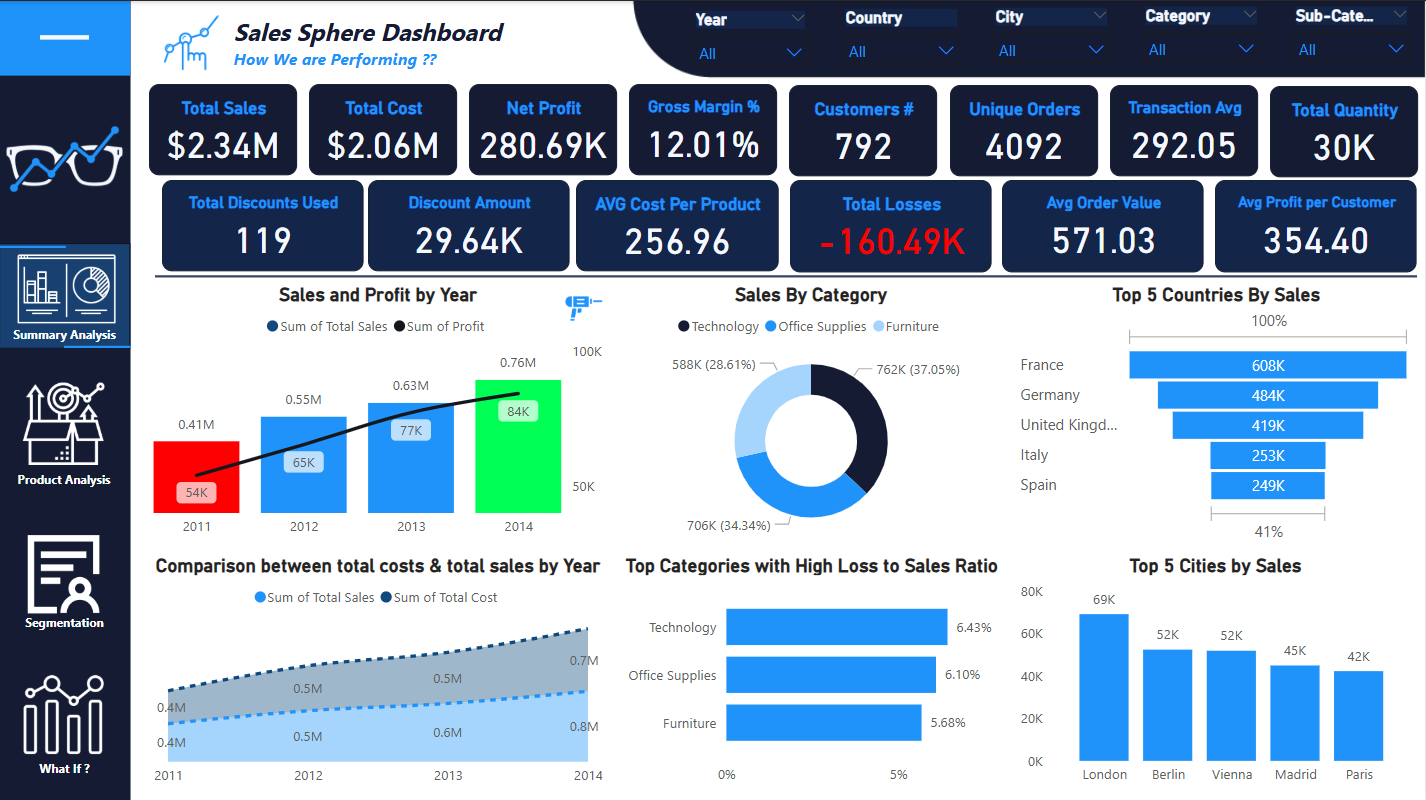

Layout of this report page (visuals, bound fields, positions):
{"tool":"powerbi","page":{"name":"Summary Analysis","canvas":[1280,720],"ordinal":0},"visuals":[{"type":"shape","box":[0,217,118,95],"z":0},{"type":"textbox","box":[205.7,8,309.1,61.4],"z":1000},{"type":"card","title":"Total Sales","fields":{"Values":["_Key Measures.01. Total Sales"]},"box":[134.5,74.9,132.9,81.7],"z":2000},{"type":"card","title":"Total Cost","fields":{"Values":["_Key Measures.02. Total Cost"]},"box":[278.3,74.6,132.9,81.7],"z":3000},{"type":"card","title":"Net Profit","fields":{"Values":["_Key Measures.03. Net Profit"]},"box":[422.1,74.4,132.9,81.7],"z":4000},{"type":"card","title":"Gross Margin %","fields":{"Values":["_Key Measures.04.Gross margin (%)"]},"box":[565.9,74.1,132.9,81.7],"z":5000},{"type":"card","title":"Customers #","fields":{"Values":["_Key Measures.05. Customers#"]},"box":[709.6,75.5,132.9,81.7],"z":6000},{"type":"card","title":"Unique Orders","fields":{"Values":["_Key Measures.06. Unique Orders"]},"box":[853.4,75.7,132.9,81.7],"z":7000},{"type":"card","title":"Transaction Avg","fields":{"Values":["_Key Measures.07. Transictions Avg"]},"box":[997.2,75.2,132.9,81.7],"z":8000},{"type":"card","title":"Total Quantity","fields":{"Values":["_Key Measures.08. Total Quantites"]},"box":[1141,76,132.9,81.7],"z":9000},{"type":"card","title":"AVG Cost Per Product","fields":{"Values":["_Key Measures.AVG Cost Per Product"]},"box":[517.7,160.7,181.7,82.2],"z":10000},{"type":"card","title":"Total Discounts Used","fields":{"Values":["_Key Measures.Total Discounts Used"]},"box":[146.1,160.7,180.8,82.2],"z":11000},{"type":"card","title":"Discount Amount","fields":{"Values":["_Key Measures.Discount Amount"]},"box":[331.4,160.7,180.8,82.2],"z":12000},{"type":"card","title":"Total Losses","fields":{"Values":["_Key Measures.Total Losses"]},"box":[709.9,160.6,181.3,82.6],"z":13000},{"type":"card","title":"Avg Order Value","fields":{"Values":["_Key Measures.Avg Order Value"]},"box":[900.6,160.6,181.3,82.6],"z":14000},{"type":"card","title":"Avg Profit per Customer","fields":{"Values":["_Key Measures.Avg Profit per Customer"]},"box":[1091.3,160.6,181.3,82.6],"z":15000},{"type":"shape","box":[140,240,1133,15],"z":16000},{"type":"lineStackedColumnComboChart","title":"Sales and Profit by Year","fields":{"Category":["Dim - Calendar._Dim Calendar Hierarchy.Year","Dim - Calendar._Dim Calendar Hierarchy.Quarter","Dim - Calendar._Dim Calendar Hierarchy.Month No.","Dim - Calendar._Dim Calendar Hierarchy.Month Name","Dim - Calendar._Dim Calendar Hierarchy.Week No. Monthly"],"Y":["Sum(Fact - Sales.Total Sales)"],"Y2":["Sum(Fact - Sales.Profit)"]},"box":[134.1,253.3,412.9,236.5],"z":17000},{"type":"donutChart","title":"Sales By Category","fields":{"Y":["Sum(Fact - Sales.Total Cost)"],"Category":["Dim - Category.Category"]},"box":[552.9,253.6,352.1,236.4],"z":18000},{"type":"funnel","title":"Top 5 Countries By Sales","fields":{"Y":["Sum(Fact - Sales.Total Sales)"],"Category":["Dim - Country.Country"]},"box":[912.1,253.6,361.4,236.4],"z":19000},{"type":"clusteredBarChart","title":"Top Categories with High Loss to Sales Ratio","fields":{"Category":["Dim - Category.Category"],"Y":["_Key Measures.Loss to Sales Ratio"]},"box":[552.9,496.4,353.6,215.7],"z":20000},{"type":"clusteredColumnChart","title":"Top 5 Cities by Sales","fields":{"Y":["Sum(Fact - Sales.Total Sales)"],"Category":["Dim - City.City"]},"box":[912.1,496.4,360,215.7],"z":21000},{"type":"image","box":[139.8,8,65.9,59.1],"z":22000},{"type":"image","box":[11.4,206.8,97.7,104.5],"z":23000},{"type":"image","box":[8,337.5,100,84.1],"z":24000},{"type":"image","box":[9.1,468.2,97.7,92],"z":25000},{"type":"image","box":[17,590.9,81.8,100],"z":26000},{"type":"shape","box":[58,272,60,77],"z":27000},{"type":"shape","box":[0,182,60,77],"z":28000},{"type":"textbox","box":[0,284.5,117.5,26.8],"z":29000},{"type":"textbox","box":[0,414.4,116.5,32],"z":30000},{"type":"textbox","box":[0,674.2,117.5,32],"z":31000},{"type":"textbox","box":[0,543.3,117.5,32],"z":32000},{"type":"shape","box":[0,0,118,67],"z":33000},{"type":"shape","box":[37.1,12.4,44.3,40.2],"z":34000},{"type":"image","box":[0,67,117.5,149.5],"z":35000},{"type":"stackedAreaChart","title":"Comparison between total costs & total sales by Year","fields":{"Category":["Dim - Calendar._Dim Calendar Hierarchy.Year","Dim - Calendar._Dim Calendar Hierarchy.Quarter","Dim - Calendar._Dim Calendar Hierarchy.Month No.","Dim - Calendar._Dim Calendar Hierarchy.Month Name","Dim - Calendar._Dim Calendar Hierarchy.Week No. Monthly"],"Y":["Sum(Fact - Sales.Total Sales)","Sum(Fact - Sales.Total Cost)"]},"box":[134.1,496.5,412.9,216.5],"z":36000},{"type":"slicer","fields":{"Values":["Dim - Sub-Category.Sub-Category"]},"box":[1149.5,-1.4,129.9,60.8],"z":37000},{"type":"slicer","fields":{"Values":["Dim - Category.Category"]},"box":[1014.7,-1.4,129.9,60.8],"z":38000},{"type":"slicer","fields":{"Values":["Dim - City.City"]},"box":[879.9,-1,129.9,60.8],"z":39000},{"type":"slicer","fields":{"Values":["Dim - Country.Country"]},"box":[745.1,0,129.9,60.8],"z":40000},{"type":"slicer","fields":{"Values":["Dim - Calendar.Year"]},"box":[609.3,1.1,129.9,60.8],"z":41000},{"type":"image","box":[498.8,254.1,51.8,43.5],"z":42000}]}

Visuals, with their boxes on the page's 1280x720 design canvas (x1, y1, x2, y2). These are canvas units, not pixel positions in the 1426x800 screenshot, which may show the page scaled, cropped or inside an application window:
shape: 0 217 118 312
textbox: 206 8 515 69
"Total Sales" card: 134 75 267 157
"Total Cost" card: 278 75 411 156
"Net Profit" card: 422 74 555 156
"Gross Margin %" card: 566 74 699 156
"Customers #" card: 710 76 842 157
"Unique Orders" card: 853 76 986 157
"Transaction Avg" card: 997 75 1130 157
"Total Quantity" card: 1141 76 1274 158
"AVG Cost Per Product" card: 518 161 699 243
"Total Discounts Used" card: 146 161 327 243
"Discount Amount" card: 331 161 512 243
"Total Losses" card: 710 161 891 243
"Avg Order Value" card: 901 161 1082 243
"Avg Profit per Customer" card: 1091 161 1273 243
shape: 140 240 1273 255
"Sales and Profit by Year" lineStackedColumnComboChart: 134 253 547 490
"Sales By Category" donutChart: 553 254 905 490
"Top 5 Countries By Sales" funnel: 912 254 1274 490
"Top Categories with High Loss to Sales Ratio" clusteredBarChart: 553 496 906 712
"Top 5 Cities by Sales" clusteredColumnChart: 912 496 1272 712
image: 140 8 206 67
image: 11 207 109 311
image: 8 338 108 422
image: 9 468 107 560
image: 17 591 99 691
shape: 58 272 118 349
shape: 0 182 60 259
textbox: 0 284 118 311
textbox: 0 414 116 446
textbox: 0 674 118 706
textbox: 0 543 118 575
shape: 0 0 118 67
shape: 37 12 81 53
image: 0 67 118 216
"Comparison between total costs & total sales by Year" stackedAreaChart: 134 496 547 713
slicer - Dim - Sub-Category.Sub-Category: 1150 -1 1279 59
slicer - Dim - Category.Category: 1015 -1 1145 59
slicer - Dim - City.City: 880 -1 1010 60
slicer - Dim - Country.Country: 745 0 875 61
slicer - Dim - Calendar.Year: 609 1 739 62
image: 499 254 551 298
